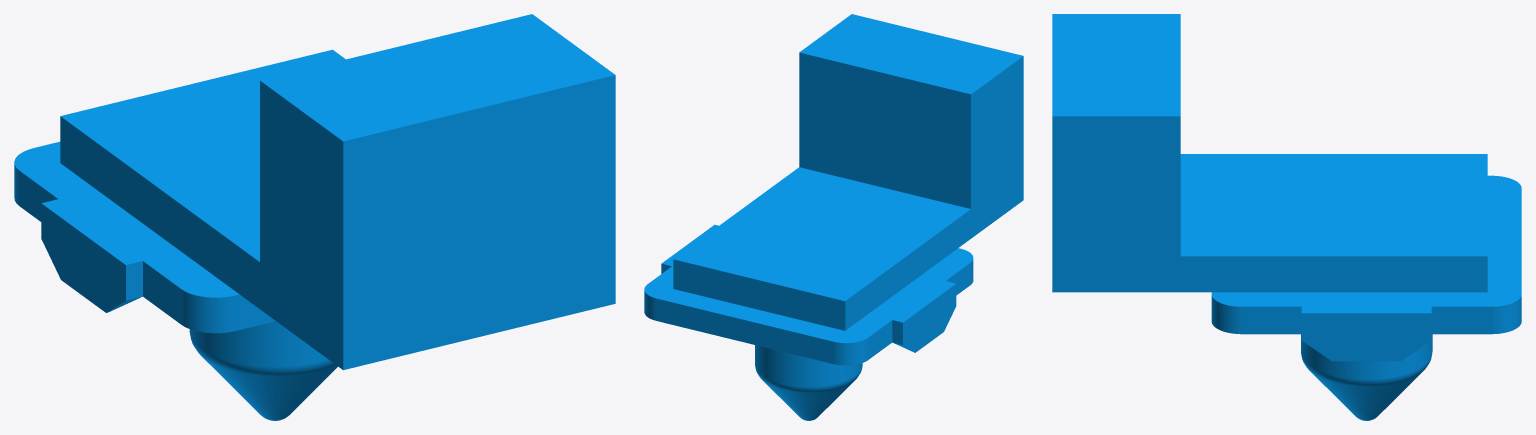
File: FootA.obj
The picture shows the model from 3 angles, left to right: view 1: azimuth 30°, elevation 25°; view 2: azimuth 150°, elevation 25°; view 3: azimuth 270°, elevation 25°; orthographic projection. The views are drawn at different scales.
Bounding box in the file's own units: 0.1125 × 0.1291 × 0.1552.
